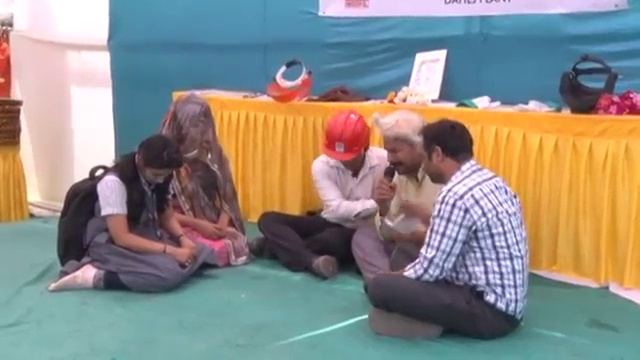helmet: (319, 110, 371, 163)
helmet_off: (419, 118, 475, 191), (375, 109, 429, 181), (164, 95, 217, 166), (128, 132, 182, 191)
helmet_on: (320, 102, 373, 180)
person: (341, 107, 536, 332), (53, 130, 204, 297), (259, 107, 389, 270), (157, 90, 247, 272), (352, 109, 450, 274)
